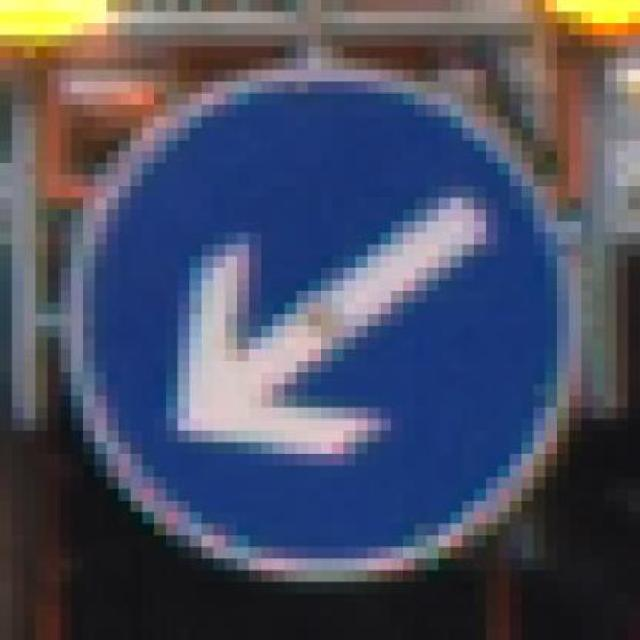Keep-Left: (59, 47, 581, 605)
